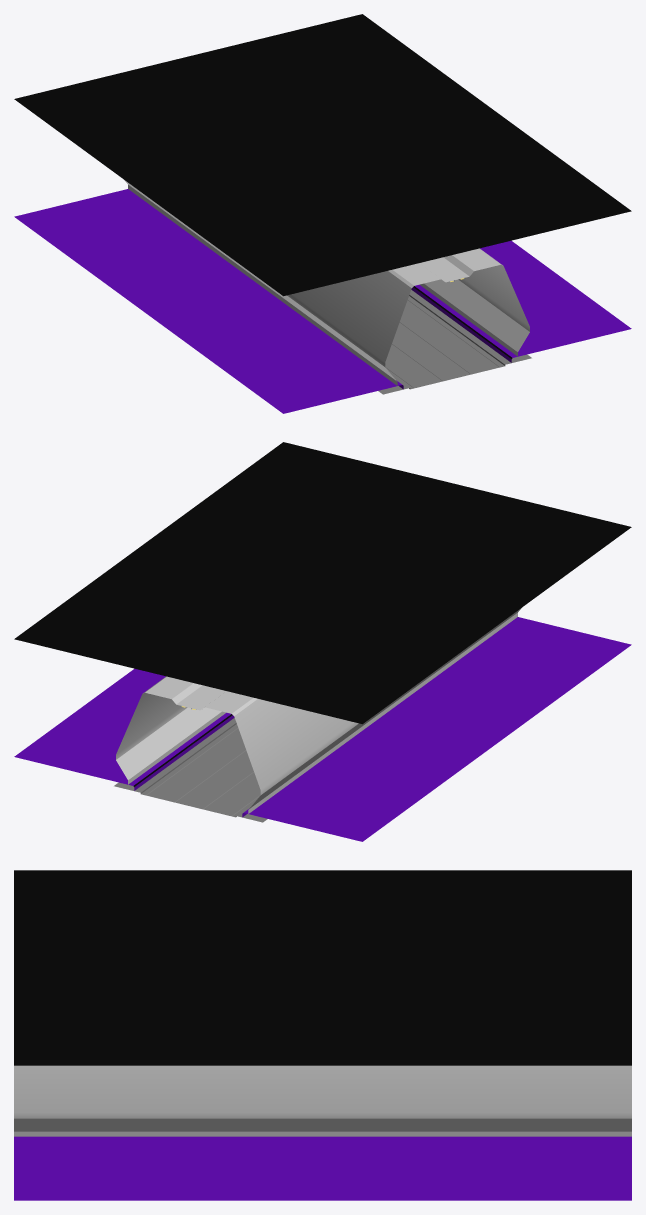
Rendered from Tunel_Tramo_B.FBX.
3 views of the same model, one above another, from view 1: azimuth 30°, elevation 25°; view 2: azimuth 150°, elevation 25°; view 3: azimuth 270°, elevation 25° (orthographic). The views are drawn at different scales.
Parts seen in each view (by area): view 1: Tunel_Tramo_B_Paredes, Tunel_Tramo_B; view 2: Tunel_Tramo_B_Paredes, Tunel_Tramo_B; view 3: Tunel_Tramo_B_Paredes.
Boxes of the visible parts, bbox=[...] form: Tunel_Tramo_B_Paredes: bbox=[14, 14, 631, 413]; Tunel_Tramo_B: bbox=[378, 290, 531, 394]; Tunel_Tramo_B_Paredes: bbox=[14, 442, 631, 841]; Tunel_Tramo_B: bbox=[114, 718, 267, 822]; Tunel_Tramo_B_Paredes: bbox=[14, 870, 631, 1200].
Size of the model in its own units: 3734 by 5000 by 1270.
